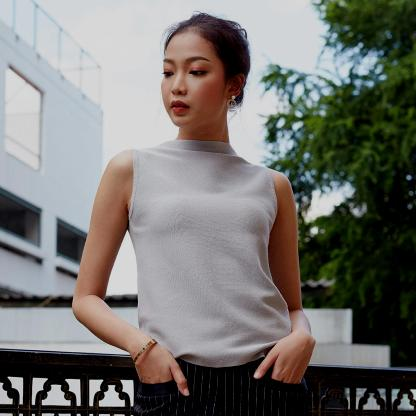jacket: (129, 139, 297, 368)
